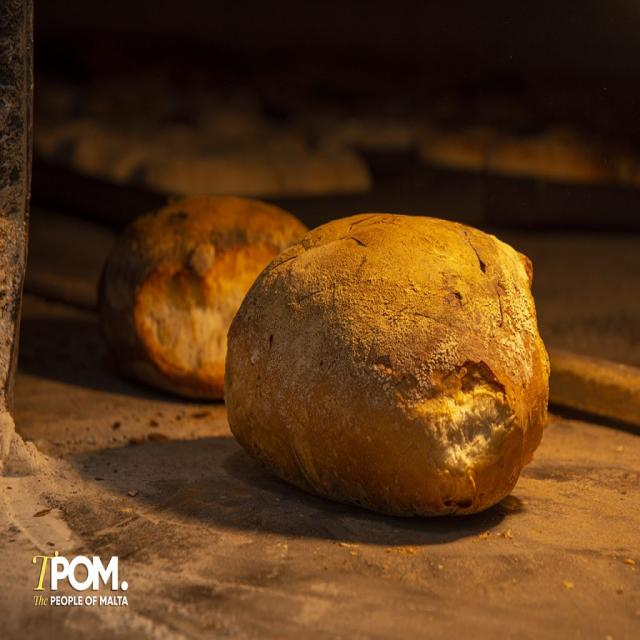Maltese-Bread: (224, 213, 550, 516), (98, 198, 308, 400)
